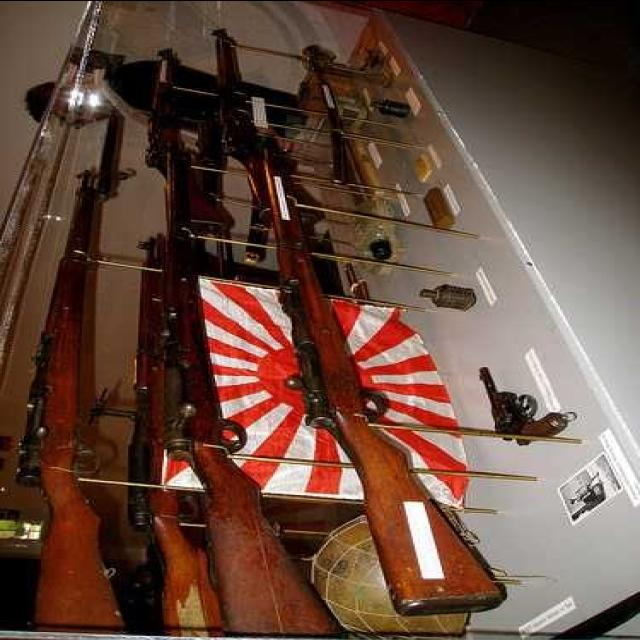heavyweapon: (201, 16, 539, 608), (143, 38, 341, 640), (40, 121, 134, 640)
